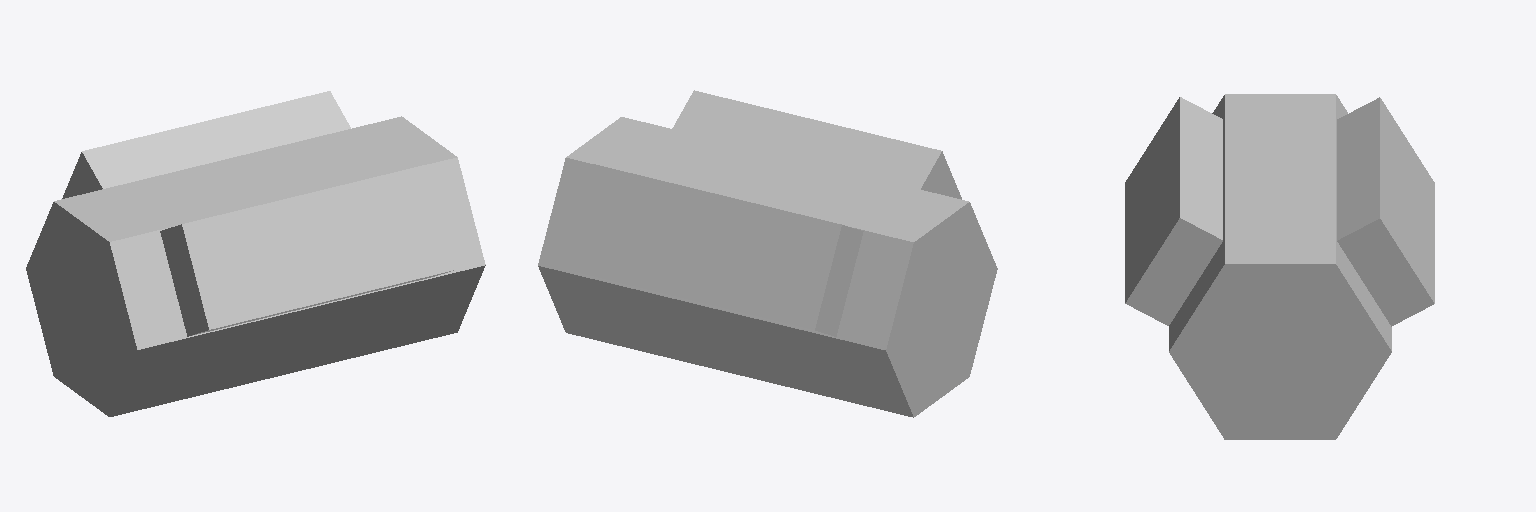
Rendered from Military SUV Engine.obj.
3 renders of one model, left to right at view 1: azimuth 30°, elevation 25°; view 2: azimuth 150°, elevation 25°; view 3: azimuth 270°, elevation 25°, orthographic.
Visible parts, largest first — view 1: Mesh; view 2: Mesh; view 3: Mesh.
Part boxes in pixels (x1,y1,x2,y2): Mesh: (26,91,485,416); Mesh: (538,90,997,417); Mesh: (1125,94,1434,439).
Size of the model in its own units: 1.3 by 0.7035 by 0.9995.